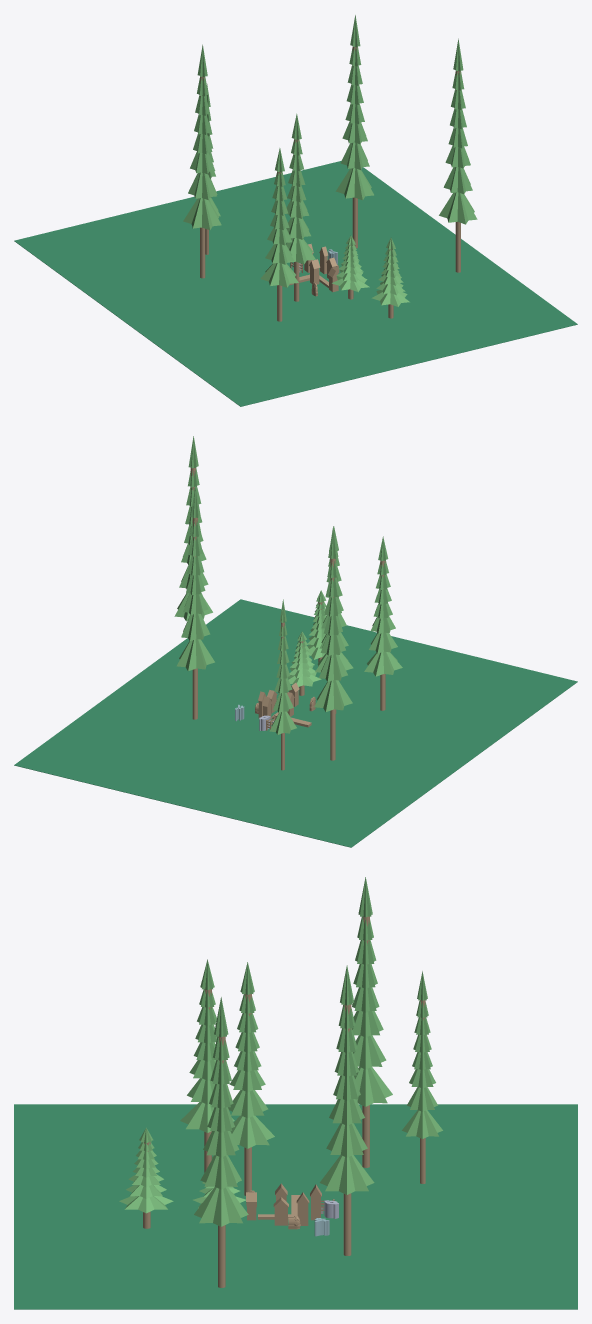
File: My house (1).glb
The picture shows the model from 3 angles, top to bottom: view 1: azimuth 30°, elevation 25°; view 2: azimuth 150°, elevation 25°; view 3: azimuth 270°, elevation 25°; orthographic projection. The views are drawn at different scales.
Parts seen in each view (by area): view 1: Mesh_Mesh_head_geo.001_lambert2SG.001; view 2: Mesh_Mesh_head_geo.001_lambert2SG.001; view 3: Mesh_Mesh_head_geo.001_lambert2SG.001.
Part boxes in pixels (x1,y1,x2,y2): Mesh_Mesh_head_geo.001_lambert2SG.001: (14, 15, 577, 406); Mesh_Mesh_head_geo.001_lambert2SG.001: (14, 436, 577, 847); Mesh_Mesh_head_geo.001_lambert2SG.001: (14, 877, 577, 1309).
Size of the model in its own units: 0.99 by 0.657 by 1.15.
